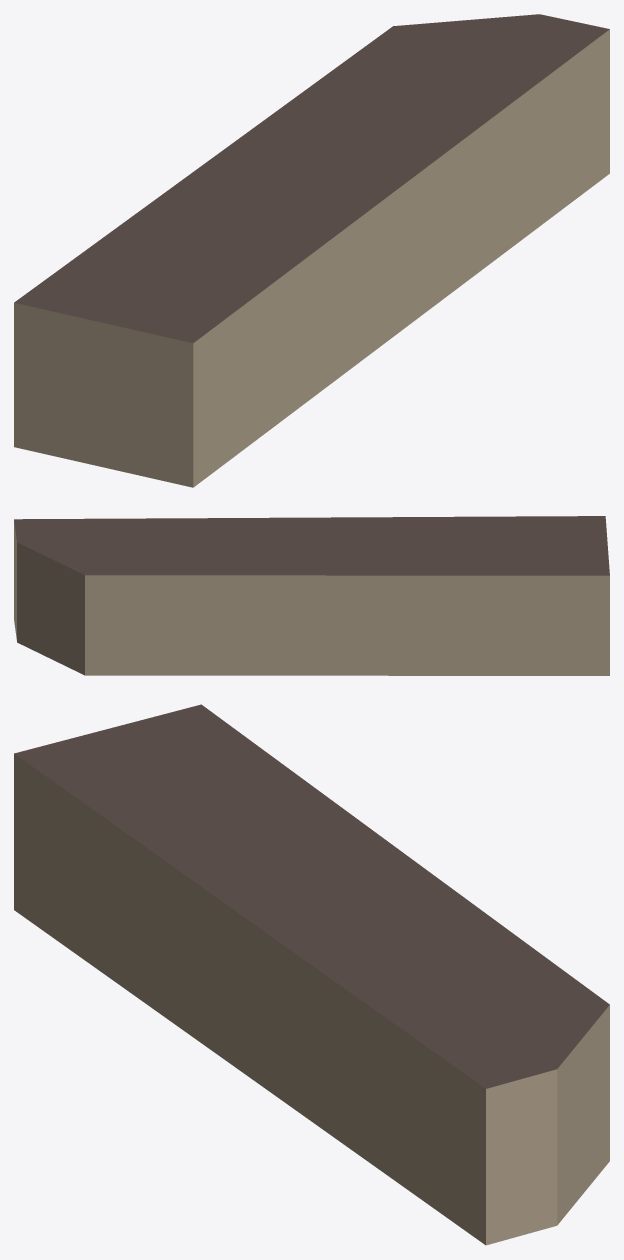
3 renders of one model, top to bottom at view 1: azimuth 30°, elevation 25°; view 2: azimuth 150°, elevation 25°; view 3: azimuth 270°, elevation 25°, orthographic. The views are drawn at different scales.
Parts seen in each view (by area): view 1: HP-w369237877; view 2: HP-w369237877; view 3: HP-w369237877.
Part boxes in pixels (bbox=[...]): HP-w369237877: bbox=[14, 14, 609, 487]; HP-w369237877: bbox=[14, 516, 609, 675]; HP-w369237877: bbox=[14, 704, 609, 1245].
Bounding box in the file's own units: 47.41 × 9 × 31.06.
